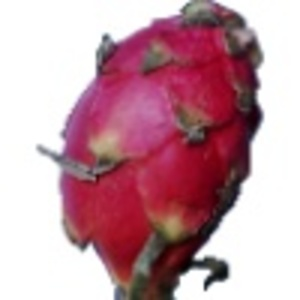pitaia: (39, 1, 266, 300)
